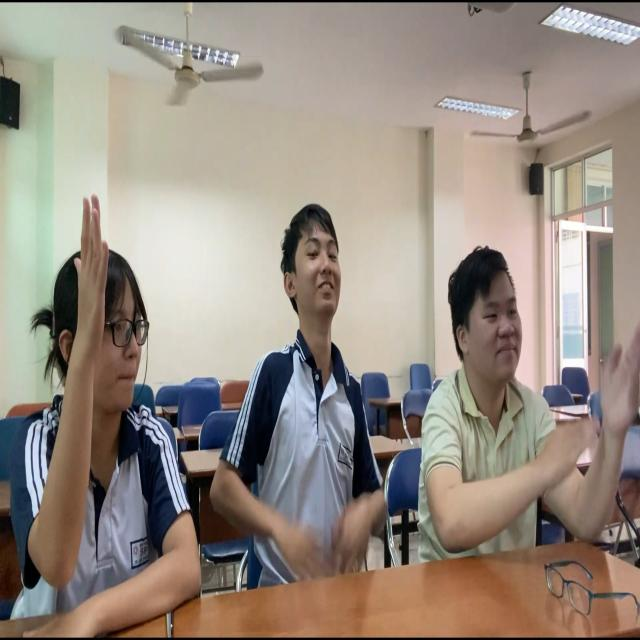raise_hand: (1, 148, 215, 640)
